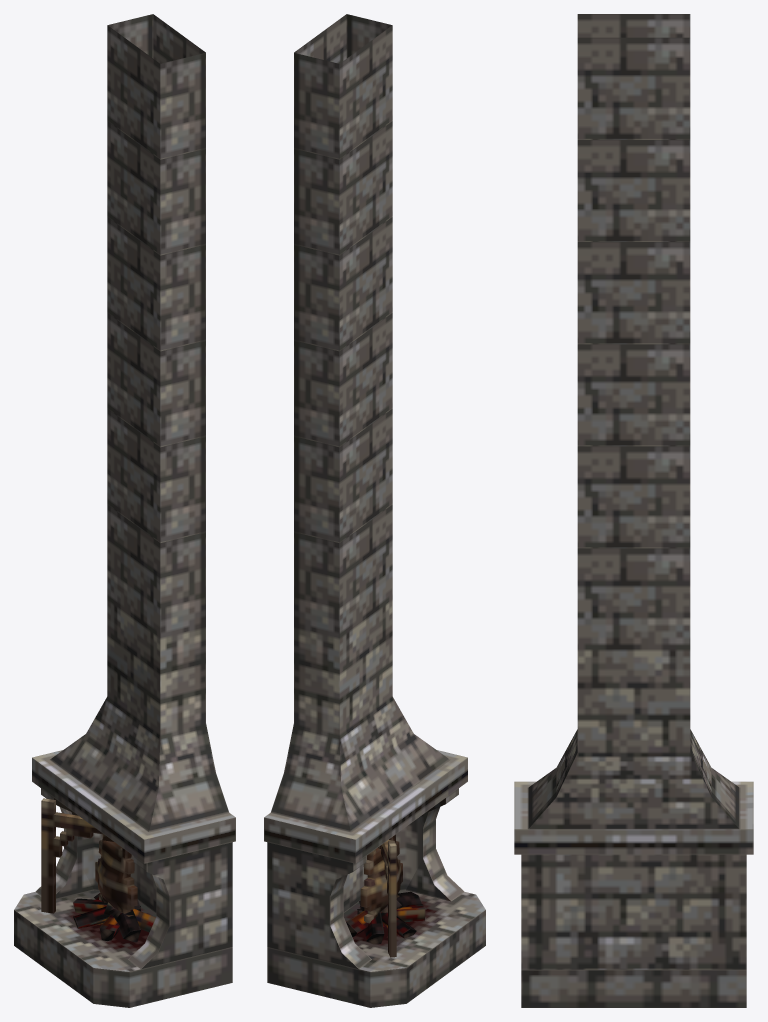
File: ObjMD_Mount_Fireplace_A.FBX
The picture shows the model from 3 angles, left to right: view 1: azimuth 30°, elevation 25°; view 2: azimuth 150°, elevation 25°; view 3: azimuth 270°, elevation 25°; orthographic projection. The views are drawn at different scales.
Visible parts, largest first — view 1: ObjMD_Mount_Fireplace_A; view 2: ObjMD_Mount_Fireplace_A; view 3: ObjMD_Mount_Fireplace_A.
Boxes of the visible parts, <box> form: ObjMD_Mount_Fireplace_A: <box>14,14,235,1007</box>; ObjMD_Mount_Fireplace_A: <box>264,14,485,1007</box>; ObjMD_Mount_Fireplace_A: <box>514,14,753,1007</box>.
Bounding box in the file's own units: 138 × 950 × 212.
